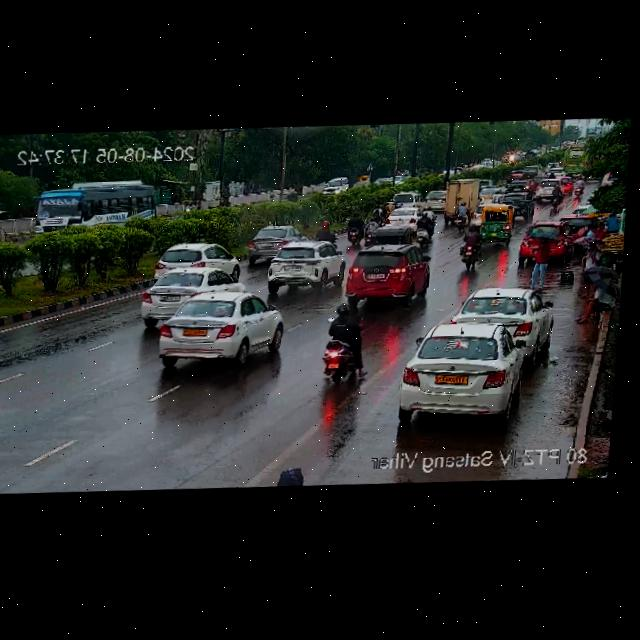bus: (37, 178, 156, 238)
car: (396, 320, 537, 422), (151, 288, 284, 368), (134, 263, 249, 327), (342, 245, 434, 308), (454, 285, 549, 344), (261, 244, 344, 292), (150, 240, 244, 277), (245, 225, 302, 260), (517, 223, 567, 262), (265, 239, 343, 264), (474, 204, 518, 244), (485, 192, 533, 220), (363, 222, 419, 245), (532, 178, 567, 202), (384, 206, 433, 223), (318, 174, 350, 200), (388, 191, 421, 207), (421, 190, 447, 210)
motorcycle: (316, 299, 364, 387), (454, 227, 488, 268), (339, 216, 367, 246), (313, 219, 337, 242), (451, 204, 470, 229), (570, 174, 589, 198), (549, 185, 565, 207)
person: (573, 284, 616, 322), (270, 466, 318, 488)
truck: (439, 176, 495, 223)
